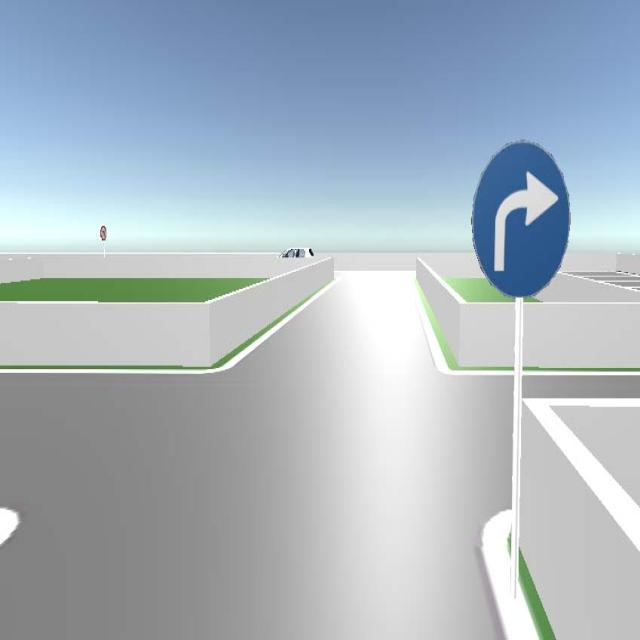sag: (470, 142, 570, 298)
